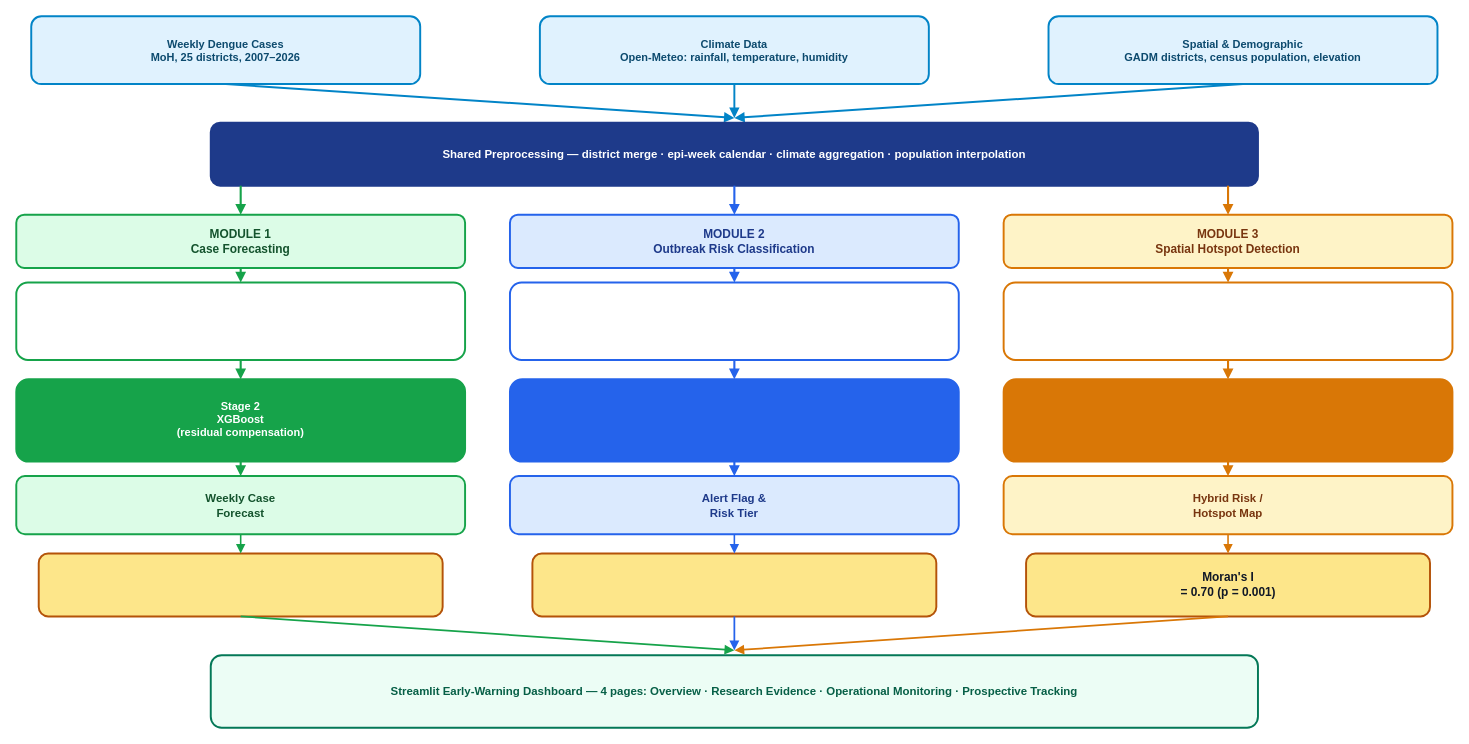
The diagram is 1469 pixels wide and 744 high, and some of its shapes have lost their labels. Each missing label, with the centre of its shape:
"Holdout PR-AUC 0.42 ROC-AUC 0.91" belongs at pixel 734 584.
"Median MASE ↓ 43.5% (validation) ↓ 32.7% (holdout)" belongs at pixel 240 584.
"Stage 1 KDE + Moran's I (spatial baseline)" belongs at pixel 1227 320.
"Stage 1 Random Forest (tuned)" belongs at pixel 734 320.
"Stage 1 SARIMA (per district)" belongs at pixel 240 320.
"Stage 2 Platt Scaling (probability calibration)" belongs at pixel 734 420.
"Stage 2 Random Forest (α = 0.05, iterative)" belongs at pixel 1227 420.
